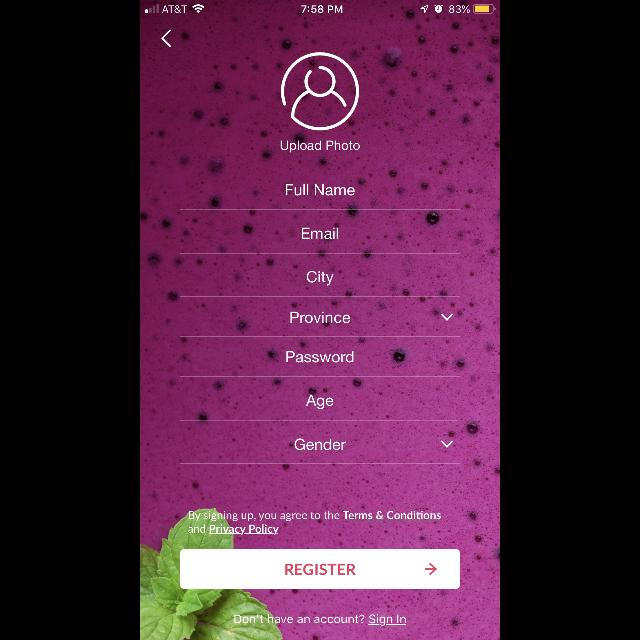backgroundimage: (140, 15, 500, 640)
icon: (281, 51, 359, 130), (161, 30, 171, 48), (425, 563, 437, 575), (441, 440, 453, 448), (441, 314, 453, 320)
input: (180, 438, 460, 464), (180, 394, 460, 420), (180, 351, 460, 377), (180, 312, 460, 338), (180, 271, 460, 297), (180, 228, 460, 254), (180, 184, 460, 210)
text: (188, 511, 442, 535), (234, 614, 406, 626), (280, 141, 360, 153), (286, 351, 354, 363), (286, 184, 354, 196), (290, 312, 350, 324), (294, 438, 346, 450), (306, 394, 334, 410), (306, 270, 334, 286), (302, 228, 338, 238)
textbutton: (180, 549, 460, 589)
uppertaskbar: (140, 0, 500, 14)
